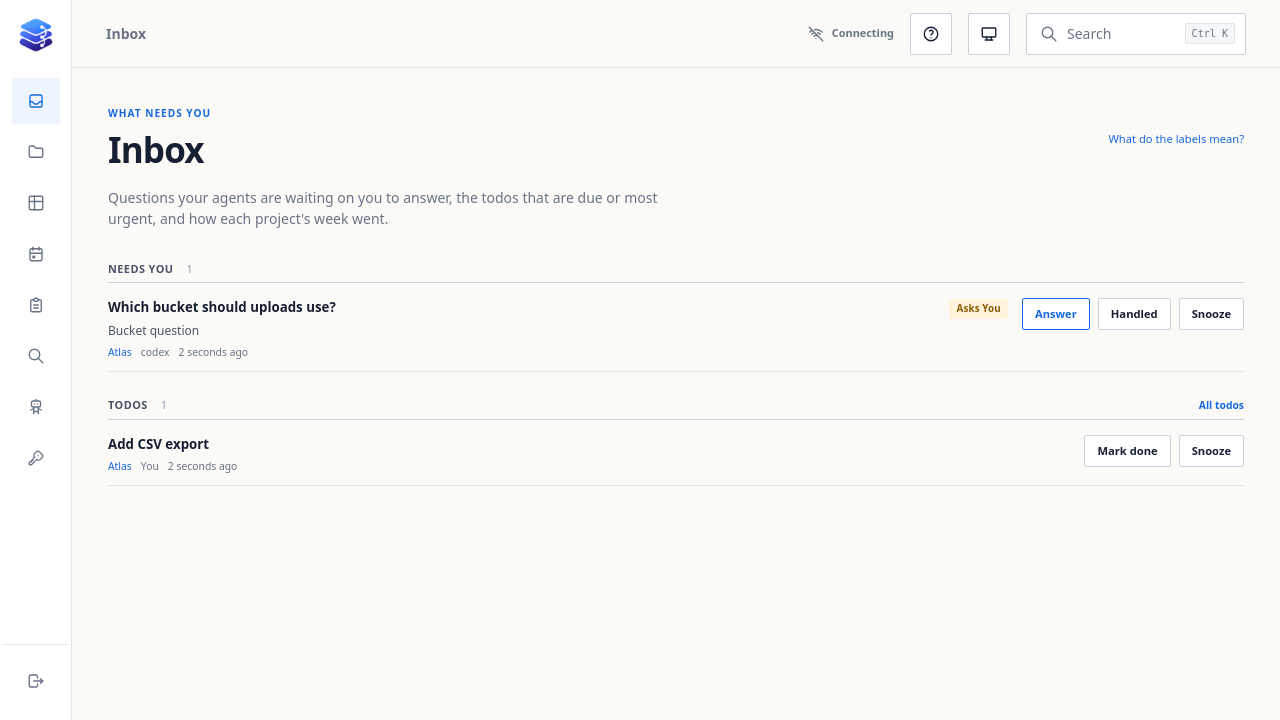
Scenario: inbox actions › snoozes a question and an open todo from their rows, with the same choices as the entry panel
Click the button "Snooze" in the row of "Asks you" at (1211,314), box [1179,298,1244,330]
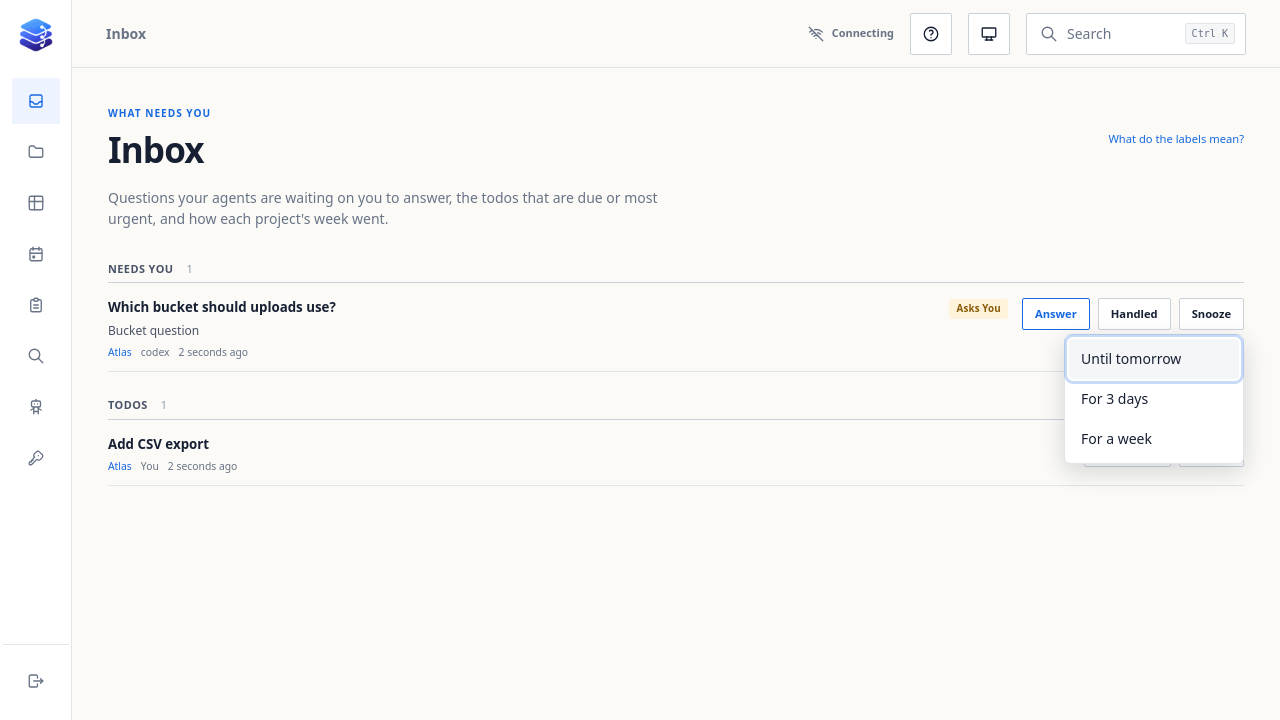
Check: the menu items read "Until tomorrow", "For 3 days", "For a week", in this order, box [1069,339,1239,379]; [1069,379,1239,419]; [1069,419,1239,459]
Press Arrowdown
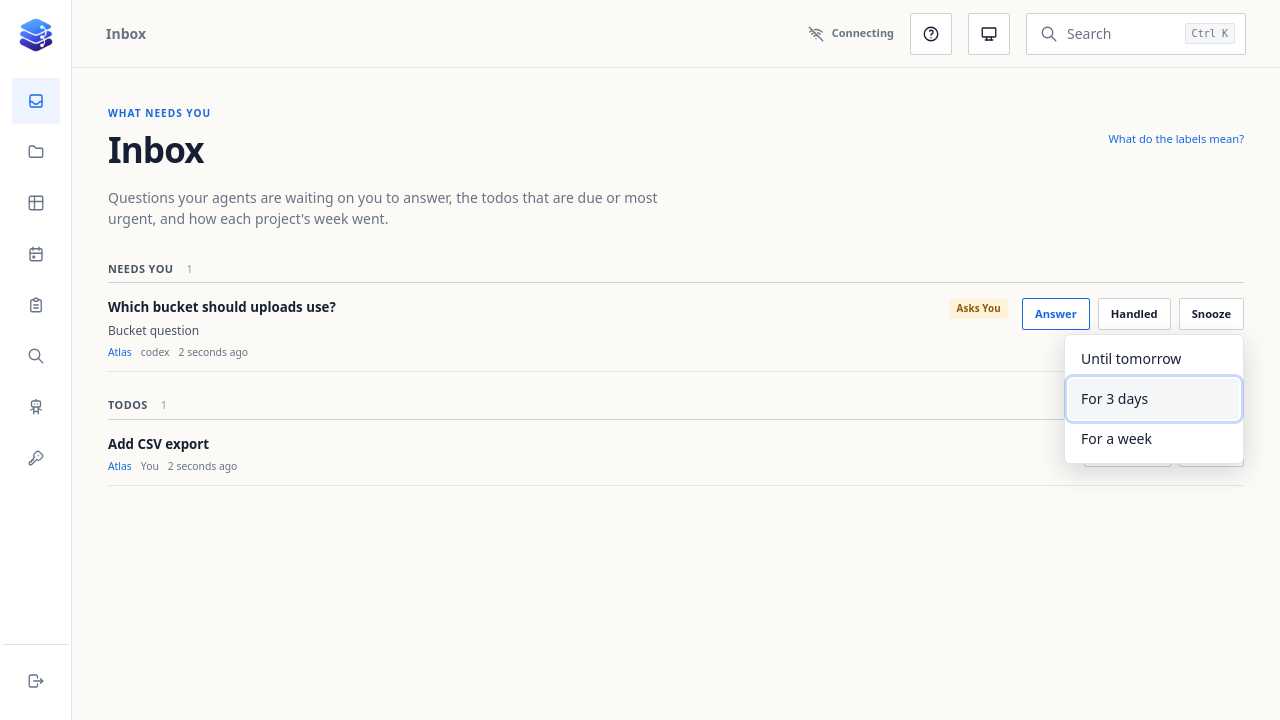
Press Enter
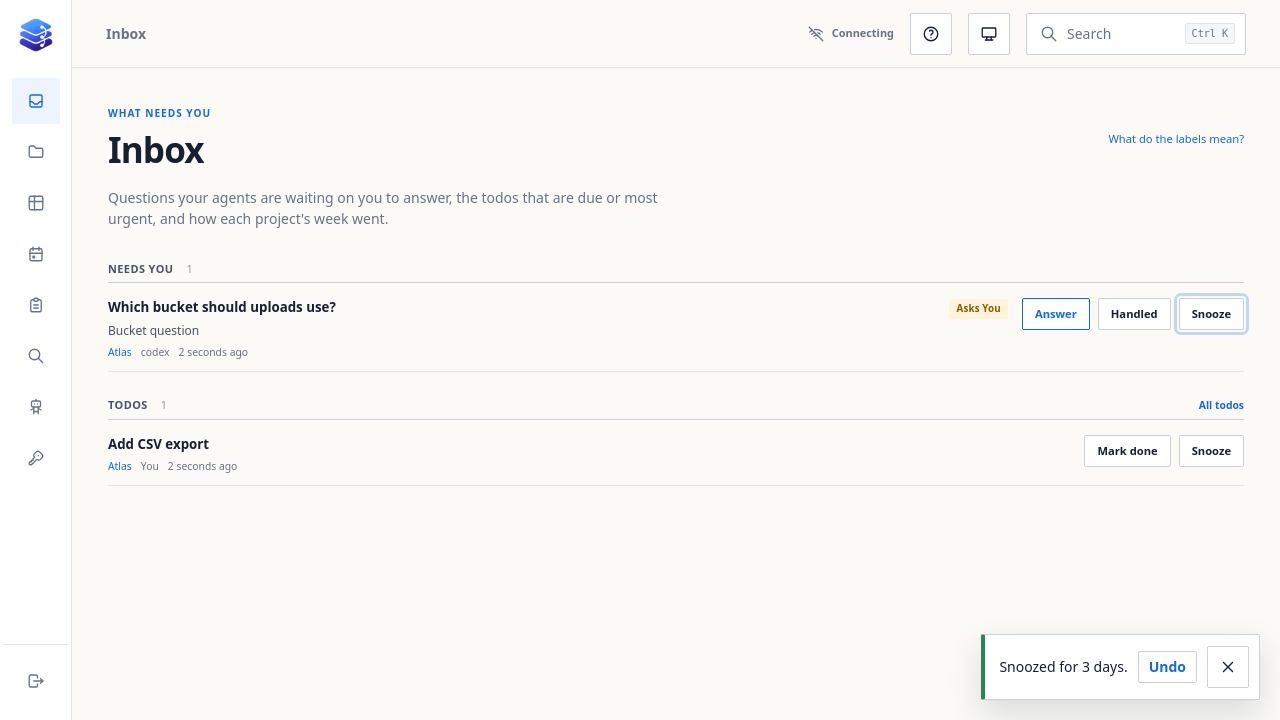
Check: the button "Mark done" is shown, box [1084,435,1171,467]
Check: the text "Snoozed for 3 days." is shown, box [999,656,1128,678]
Click the button "Snooze" below "All todos" at (1211,451), box [1179,435,1244,467]
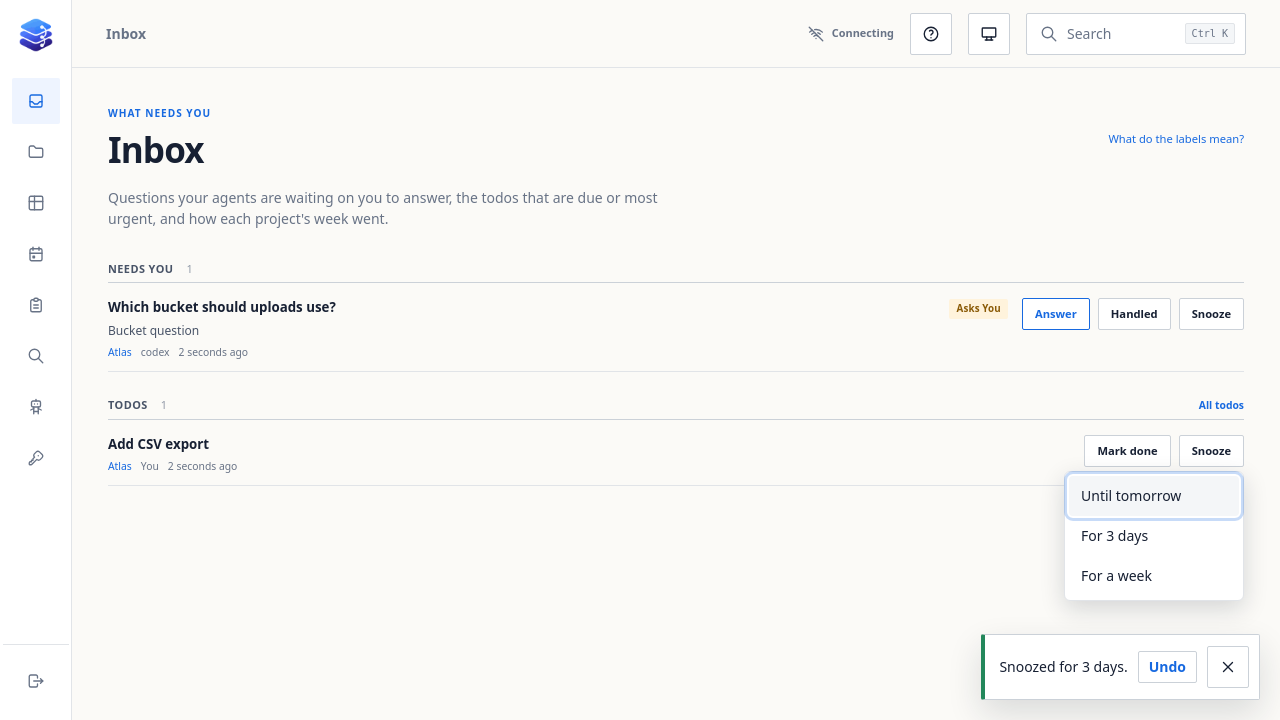
Click the menu item "Until tomorrow" at (1154,496), box [1069,476,1239,516]
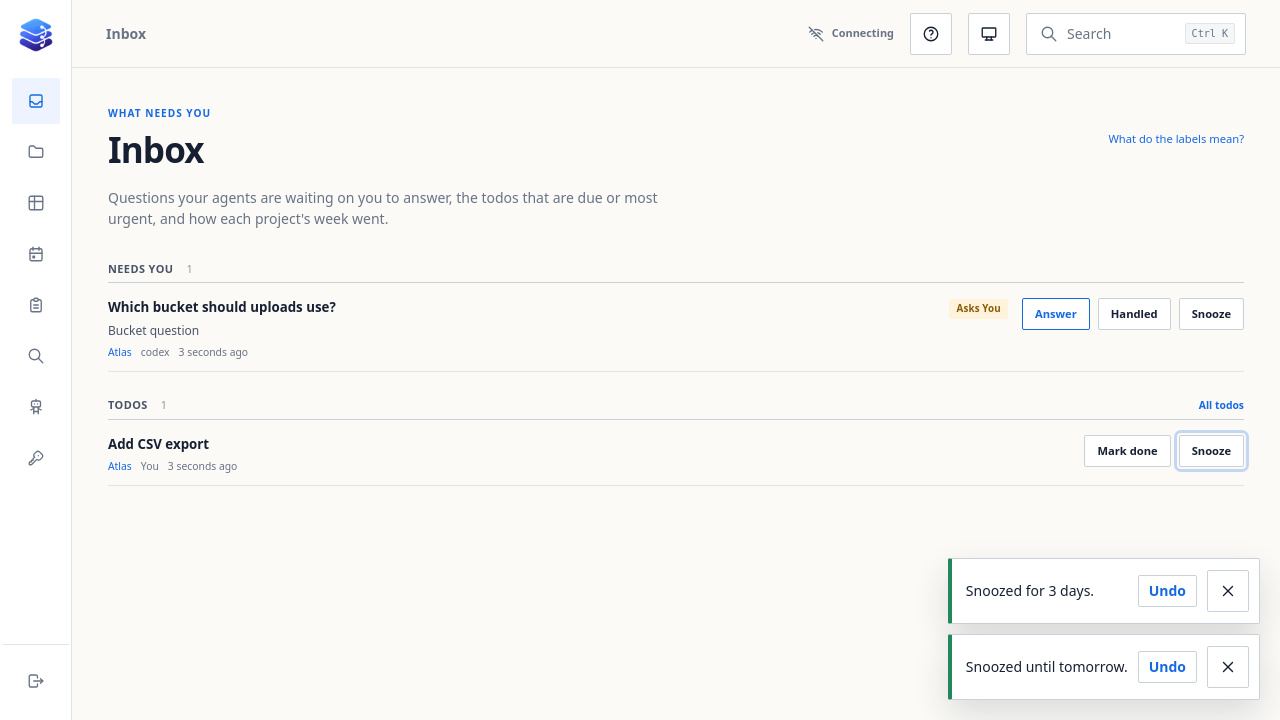
Check: the text "Snoozed until tomorrow." is shown, box [966,656,1128,678]
